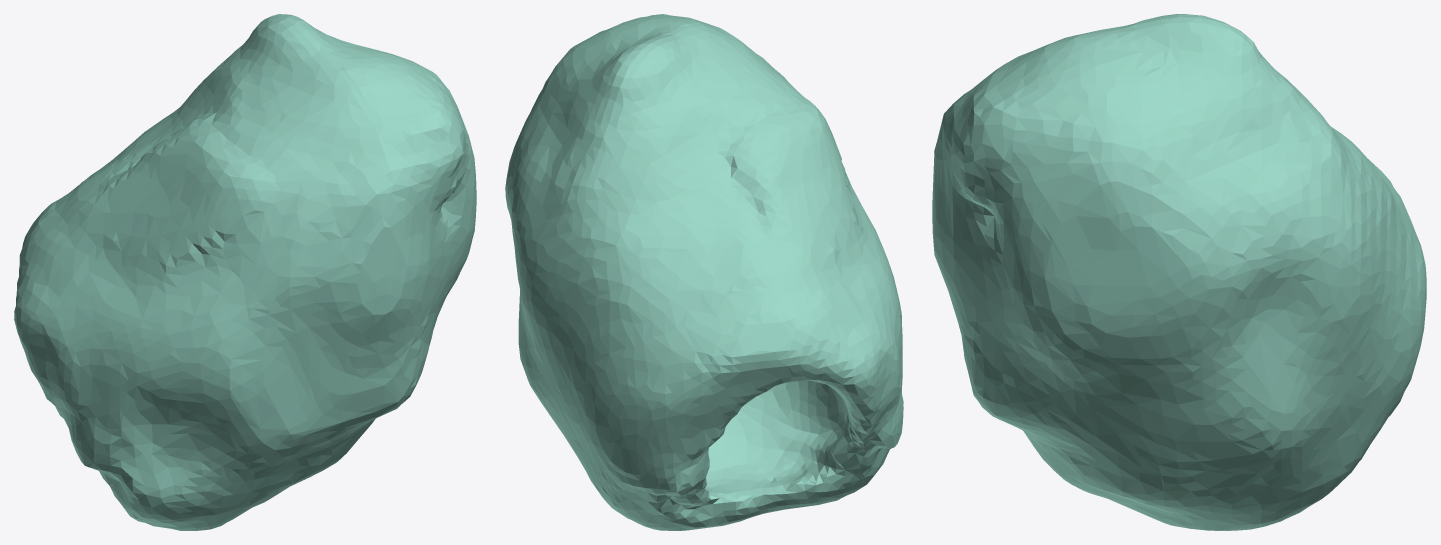
Rendered from ours.glb.
3 renders of one model, left to right at view 1: azimuth 30°, elevation 25°; view 2: azimuth 150°, elevation 25°; view 3: azimuth 270°, elevation 25°, orthographic. The views are drawn at different scales.
Parts seen in each view (by area): view 1: world; view 2: world; view 3: world.
Part boxes in pixels (x1=…): world: x1=14, y1=14, x2=476, y2=530; world: x1=505, y1=14, x2=903, y2=530; world: x1=932, y1=14, x2=1426, y2=530.
Size of the model in its own units: 0.8221 by 0.9344 by 0.7794.
